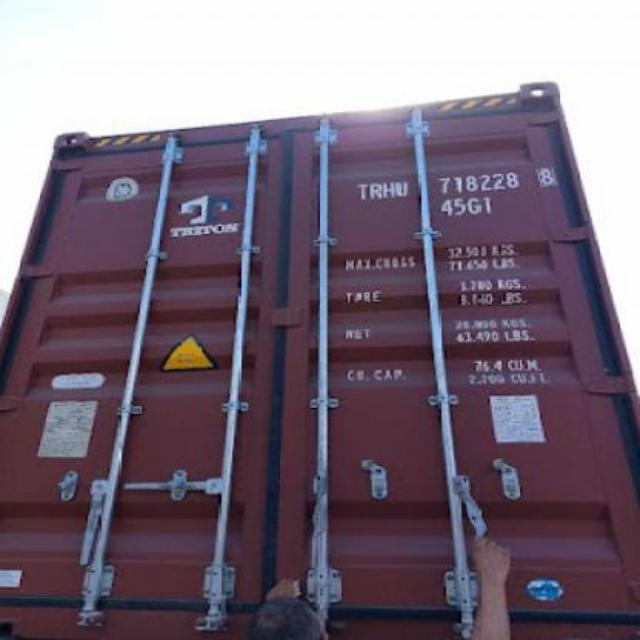1: (452, 175, 464, 195)
2: (490, 174, 506, 192), (478, 174, 490, 193)
7: (436, 177, 450, 195)
8: (536, 166, 556, 188), (504, 170, 520, 190), (465, 174, 479, 192)
H: (382, 181, 396, 201)
R: (368, 183, 382, 200)
T: (358, 183, 368, 201)
U: (396, 180, 409, 200)
